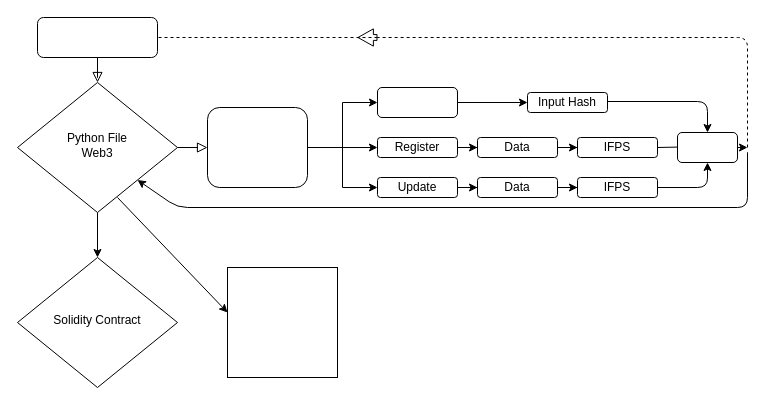
Image size: 773x405. Some labels were removed from this diagram. The centre of each missing label's shape, as x and y in pixels:
"Event Log" goes at (x=282, y=322).
"Input Function: Register, Update, or View Information" goes at (x=257, y=147).
"UI" goes at (x=97, y=37).
"URI" goes at (x=707, y=147).
"View Information" goes at (x=417, y=102).
